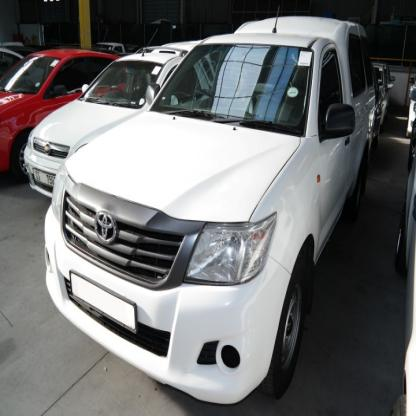bull_dozer/loader/grader: (4, 16, 390, 390)
